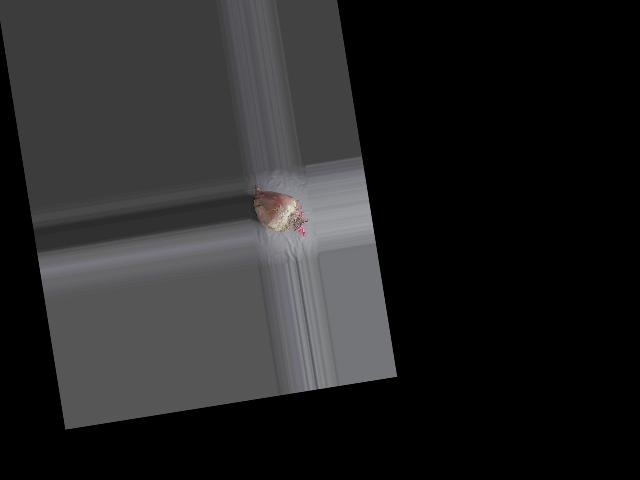beet: (250, 176, 310, 244)
